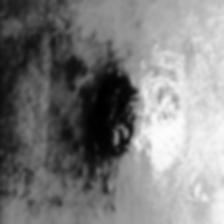Toxin: (89, 75, 145, 160)
